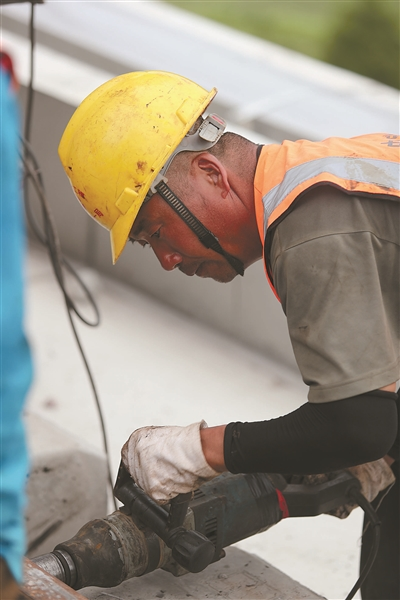safetyhat: (46, 56, 400, 528)
